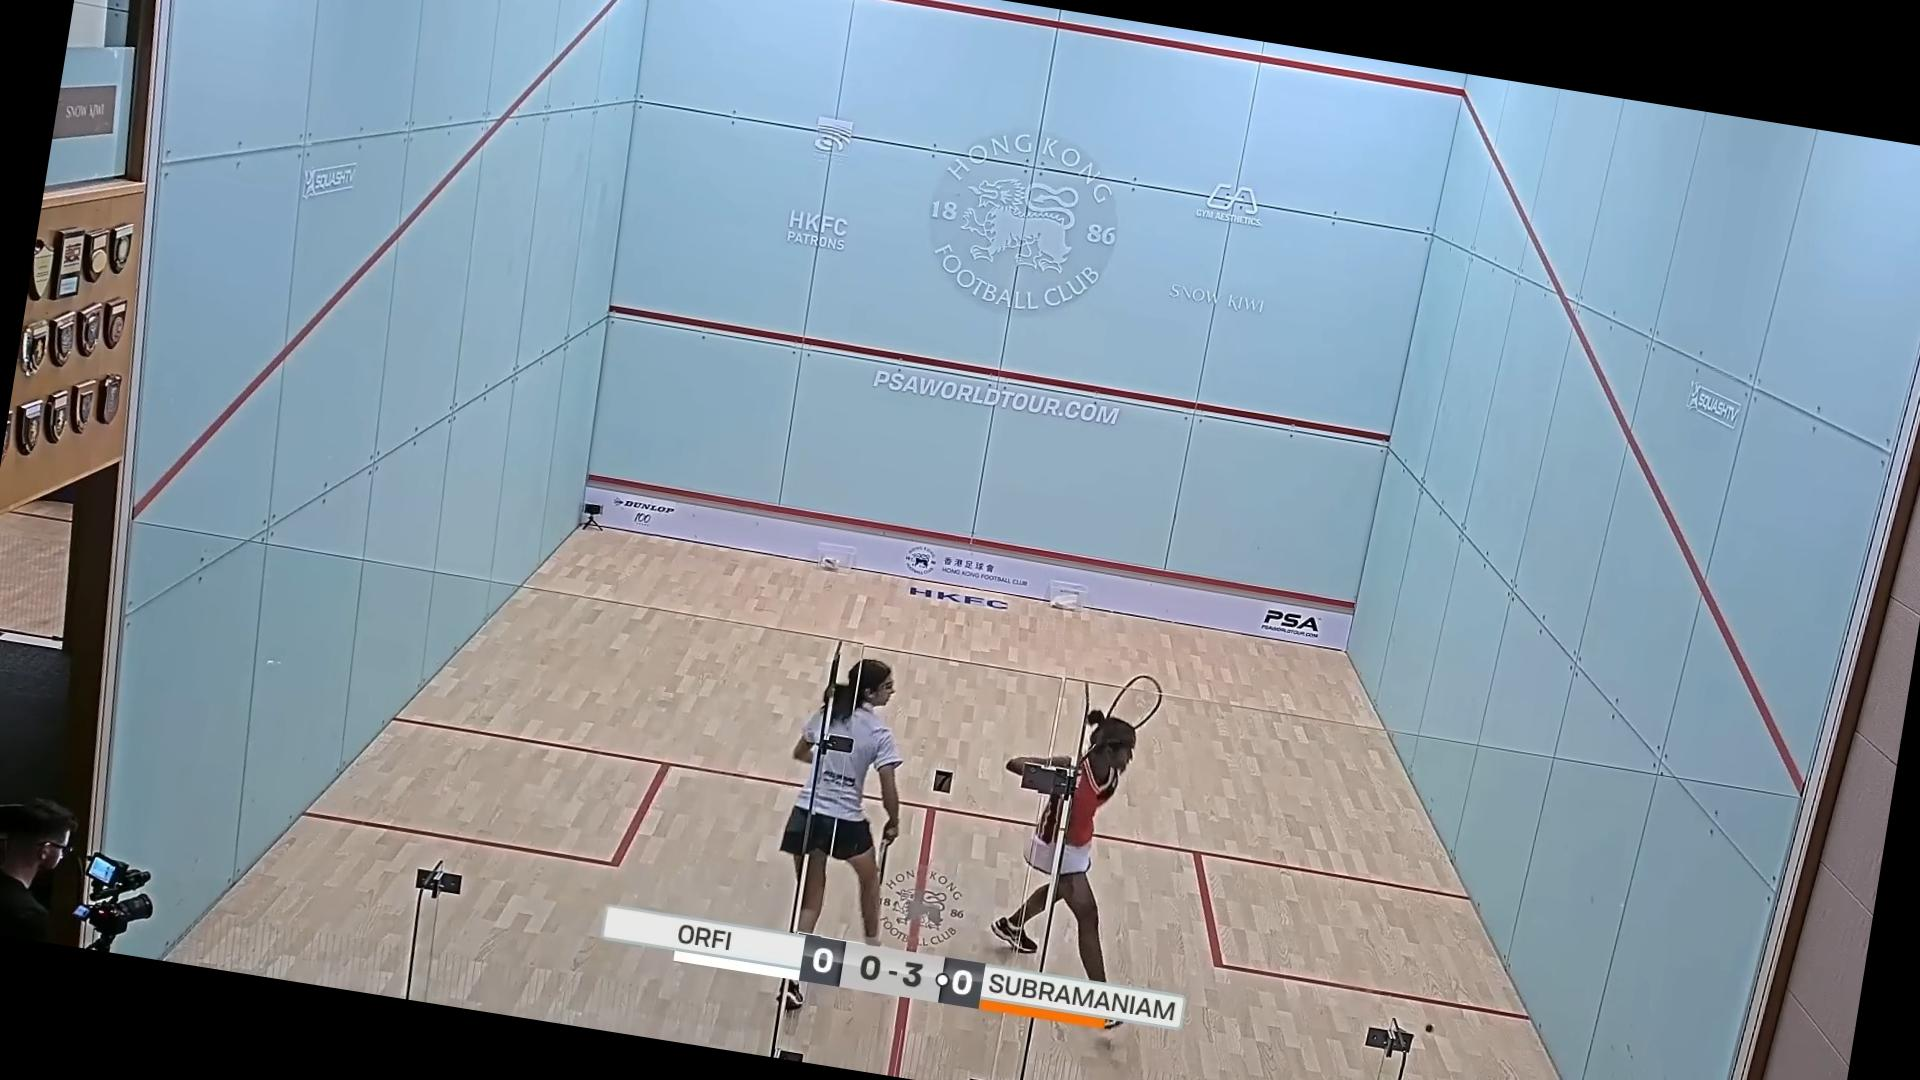Squash-Ball: (1412, 1009, 1443, 1044)
